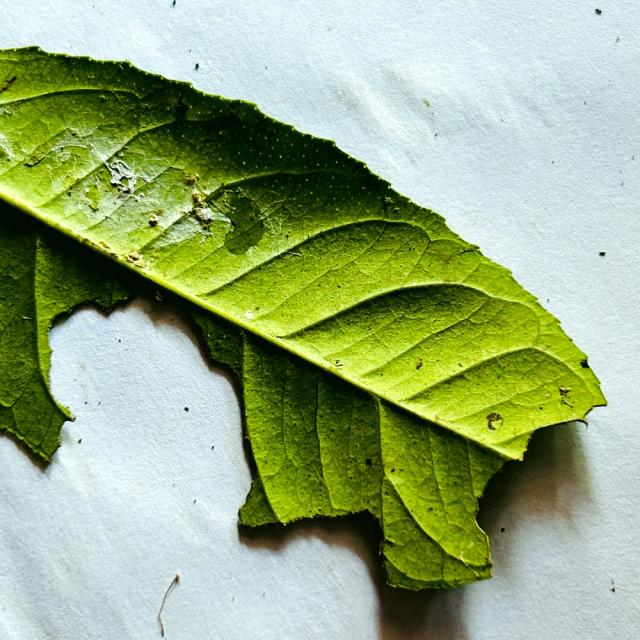Deficiency Leaf: (49, 292, 253, 509), (476, 422, 591, 571), (239, 511, 387, 599)
Lemon: (0, 48, 605, 589)
